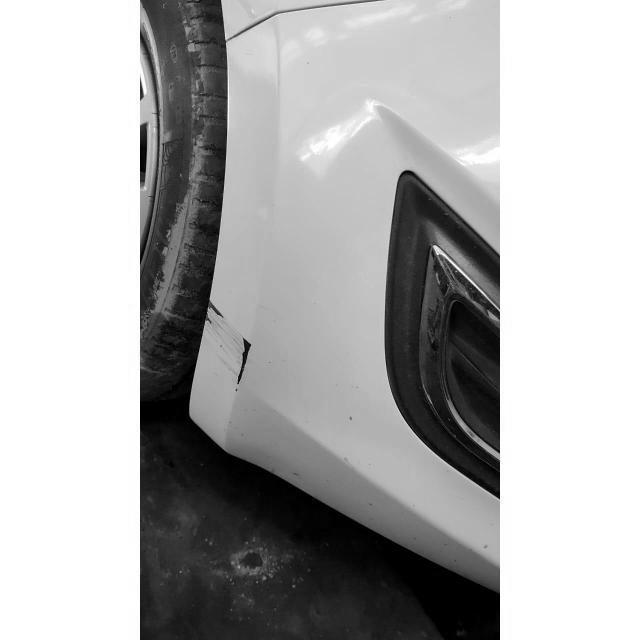front-bumper-dent: (189, 39, 499, 487)
